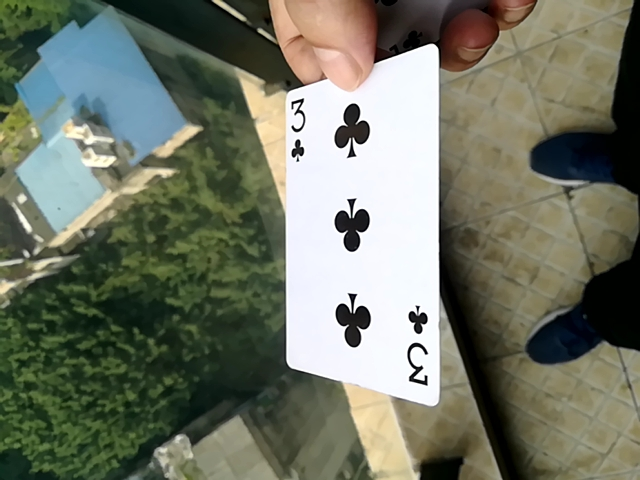mh 3: (287, 36, 454, 401)
